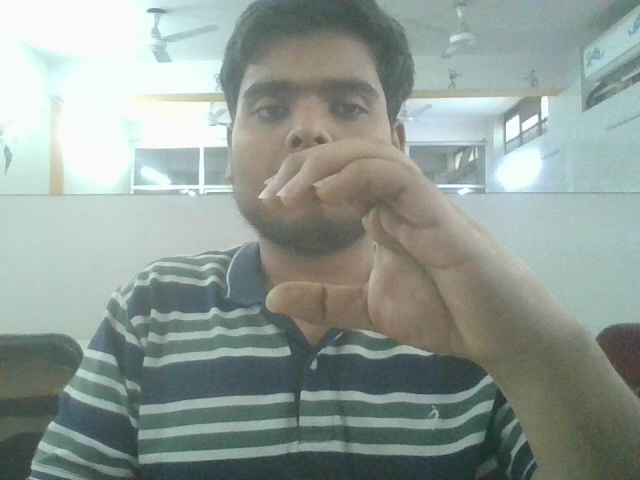No: (230, 114, 571, 388)
